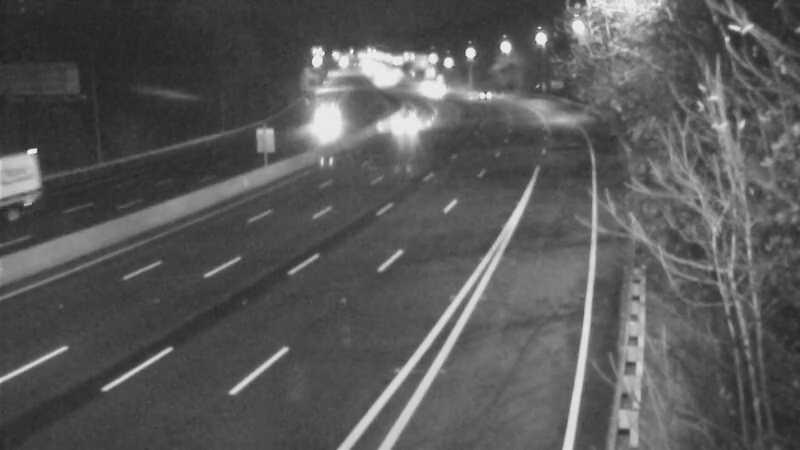vehicle: (1, 146, 70, 226), (397, 60, 447, 110), (459, 67, 509, 117), (374, 99, 424, 149), (303, 97, 353, 147)
